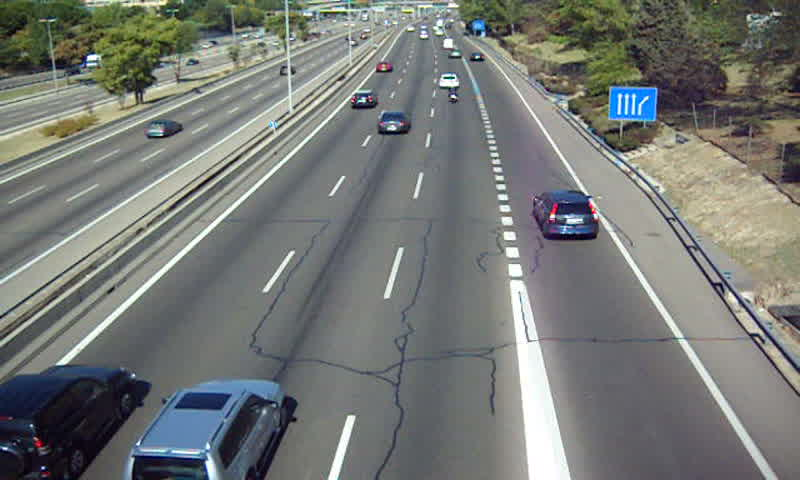car: (124, 380, 284, 480), (1, 365, 132, 480), (532, 190, 600, 240), (378, 111, 413, 136), (350, 90, 378, 112), (437, 73, 461, 89), (376, 61, 394, 72)
motorcycle: (445, 85, 460, 103)
